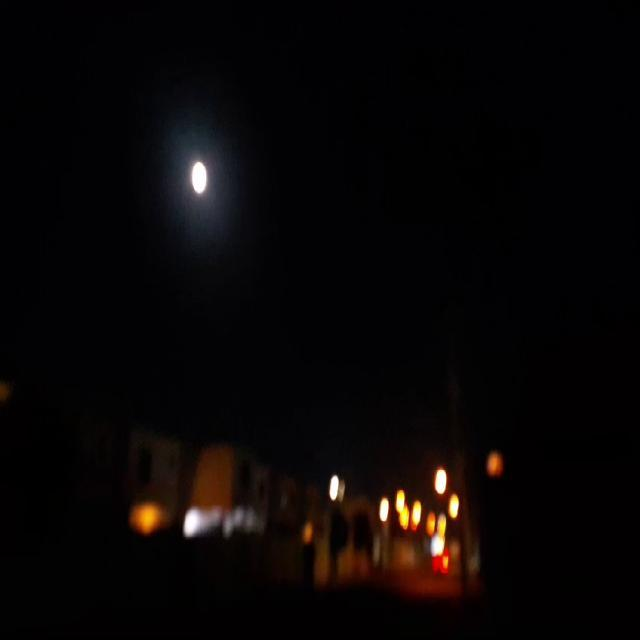moon: (186, 161, 206, 199)
